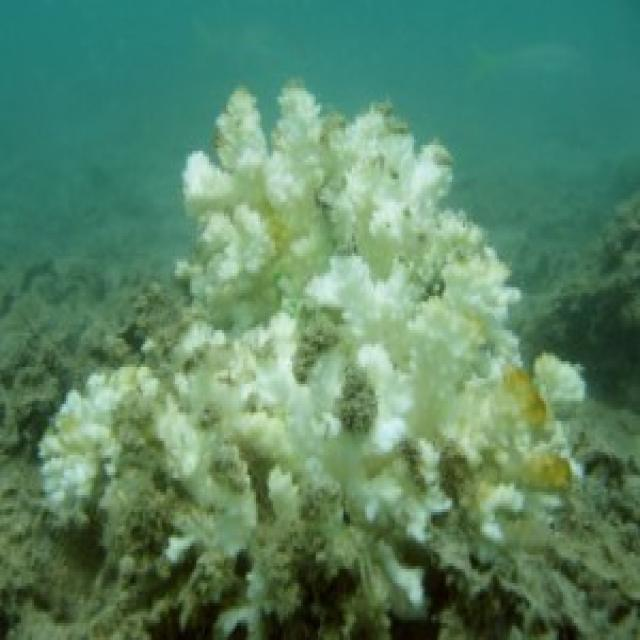Bleached: (171, 80, 538, 468), (31, 362, 305, 565), (216, 462, 521, 640), (535, 351, 586, 470)
Healthy: (498, 513, 640, 640), (1, 263, 174, 366), (545, 167, 640, 349)
